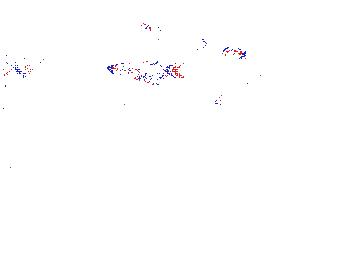X-ray fish: (186, 218, 205, 259), (115, 88, 152, 106), (316, 138, 339, 161)
glassfish: (268, 175, 346, 224)
red belly glassfish: (206, 41, 249, 61), (143, 22, 179, 44)
redtail glassfish: (102, 59, 186, 83), (212, 73, 257, 105)
